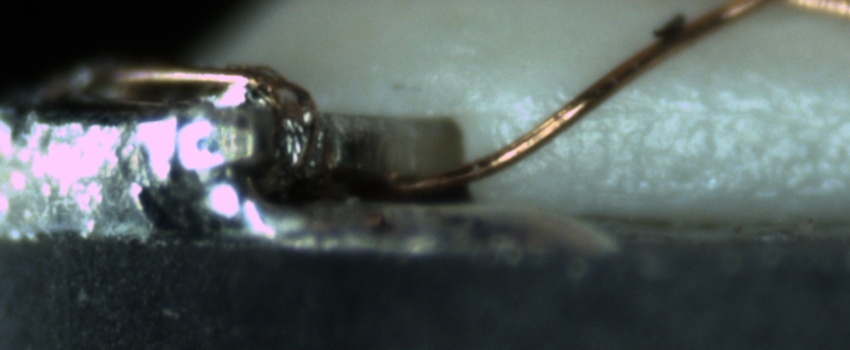CL: (723, 0, 828, 16)
DL: (540, 79, 850, 140)
TE: (102, 52, 340, 162)
